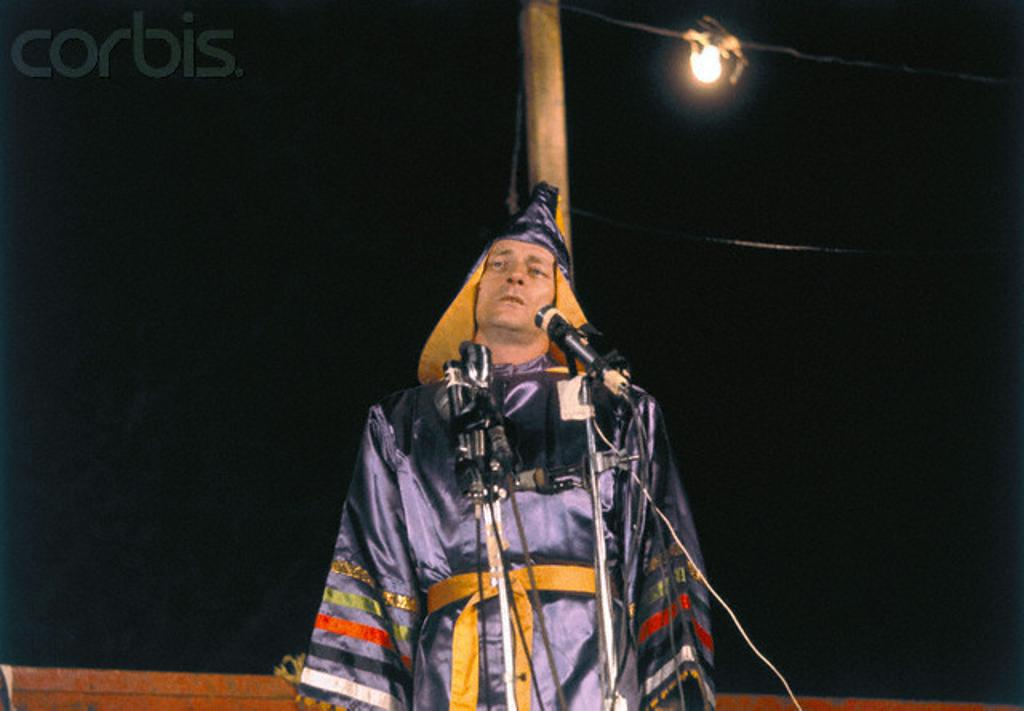face: (480, 226, 558, 332)
